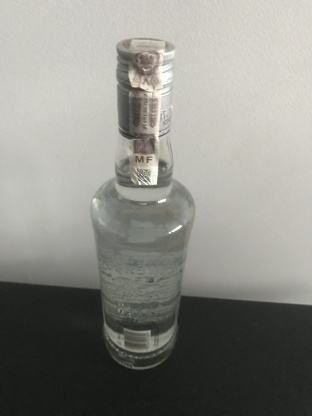nakretka: (114, 34, 177, 140)
